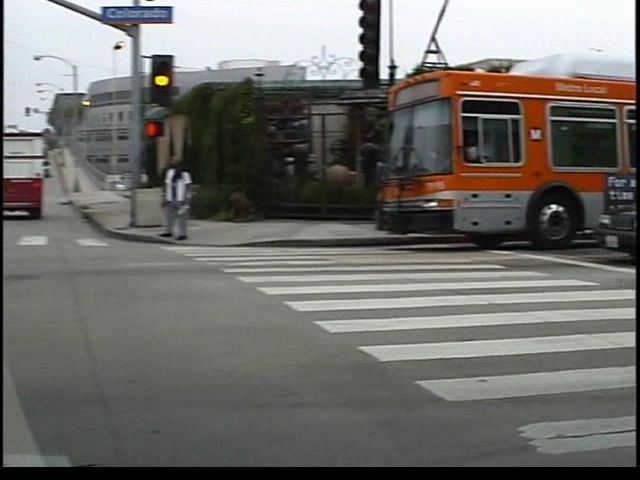person: (170, 154, 206, 246)
